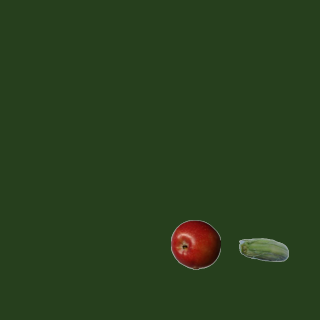Apple Braeburn: (170, 219, 220, 269)
Corn Husk: (238, 226, 288, 276)
